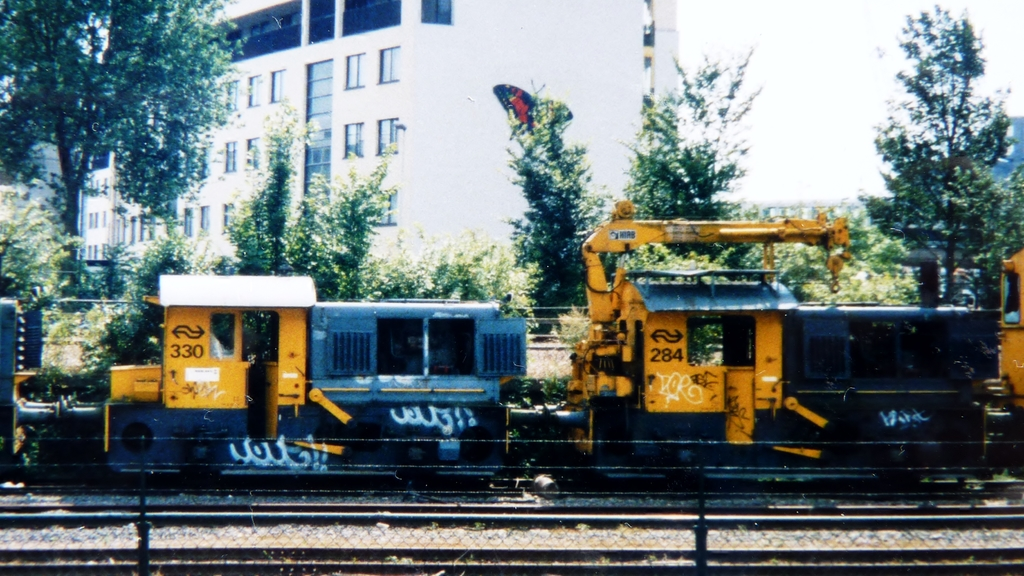train: (0, 213, 1023, 501)
